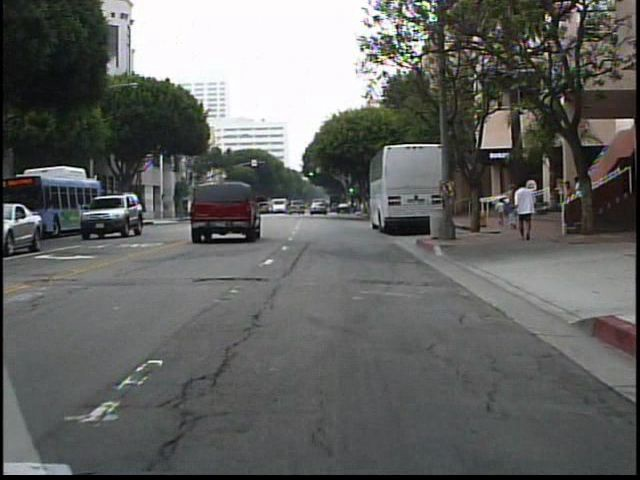person: (512, 176, 539, 243), (559, 178, 577, 235), (504, 181, 521, 235), (494, 197, 508, 230)
